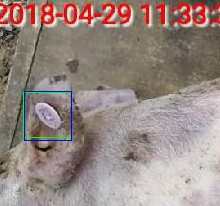text: (23, 92, 71, 137)
